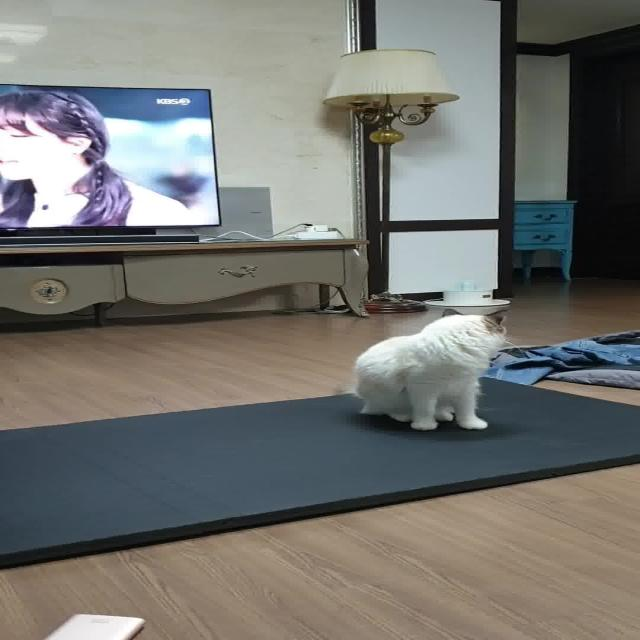cat: (320, 296, 529, 445)
